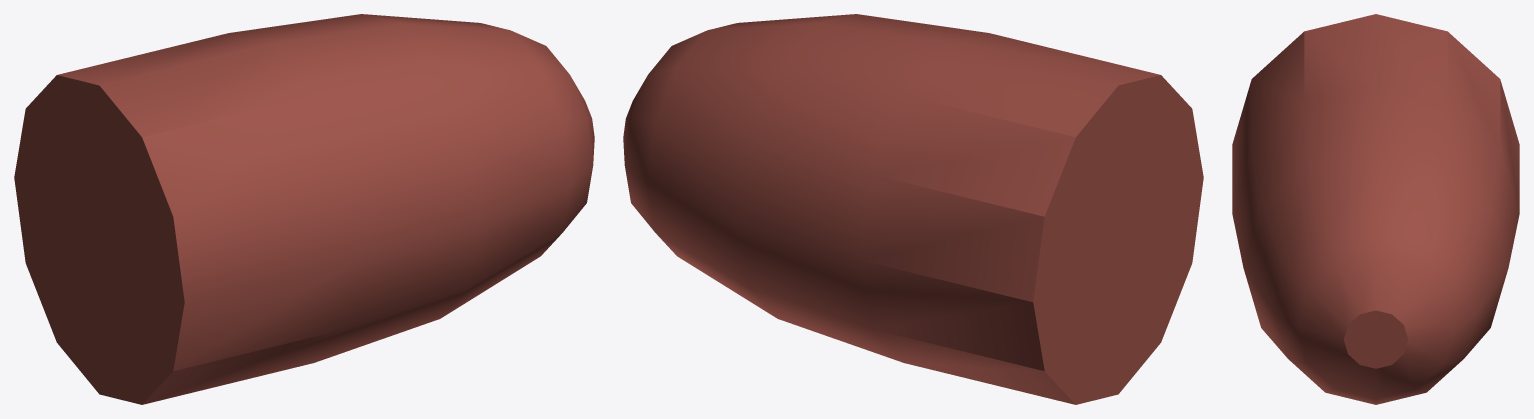
Rendered from Bullet.fbx.
3 renders of one model, left to right at view 1: azimuth 30°, elevation 25°; view 2: azimuth 150°, elevation 25°; view 3: azimuth 270°, elevation 25°, orthographic. The views are drawn at different scales.
Parts seen in each view (by area): view 1: Cylinder; view 2: Cylinder; view 3: Cylinder.
Part boxes in pixels (box(x1,y1,x2,y2)): Cylinder: box(14, 14, 594, 404); Cylinder: box(623, 14, 1203, 404); Cylinder: box(1232, 14, 1519, 404).
Size of the model in its own units: 323 by 200 by 200.
